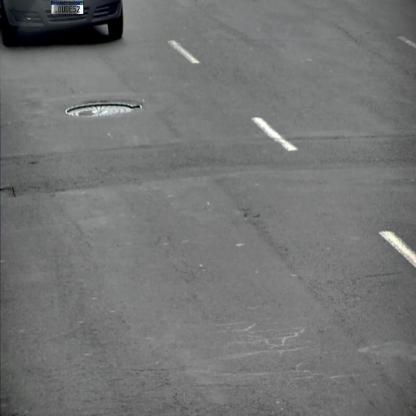PlacaM: (51, 2, 84, 14)
